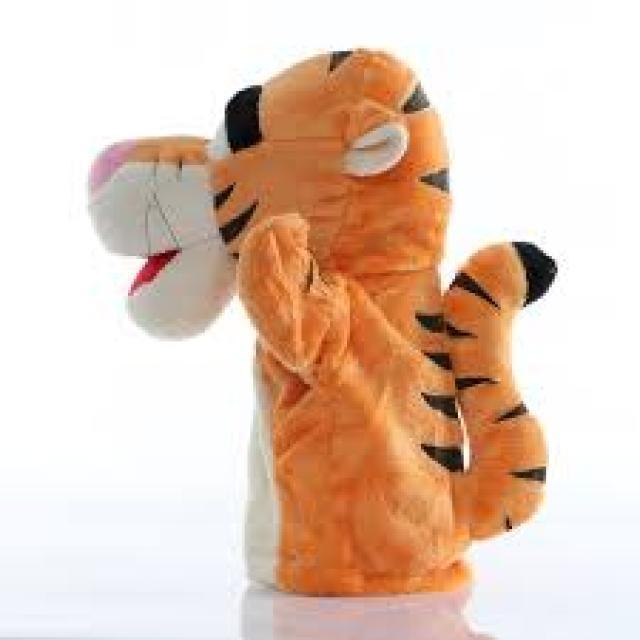soft-toy: (90, 50, 557, 596)
